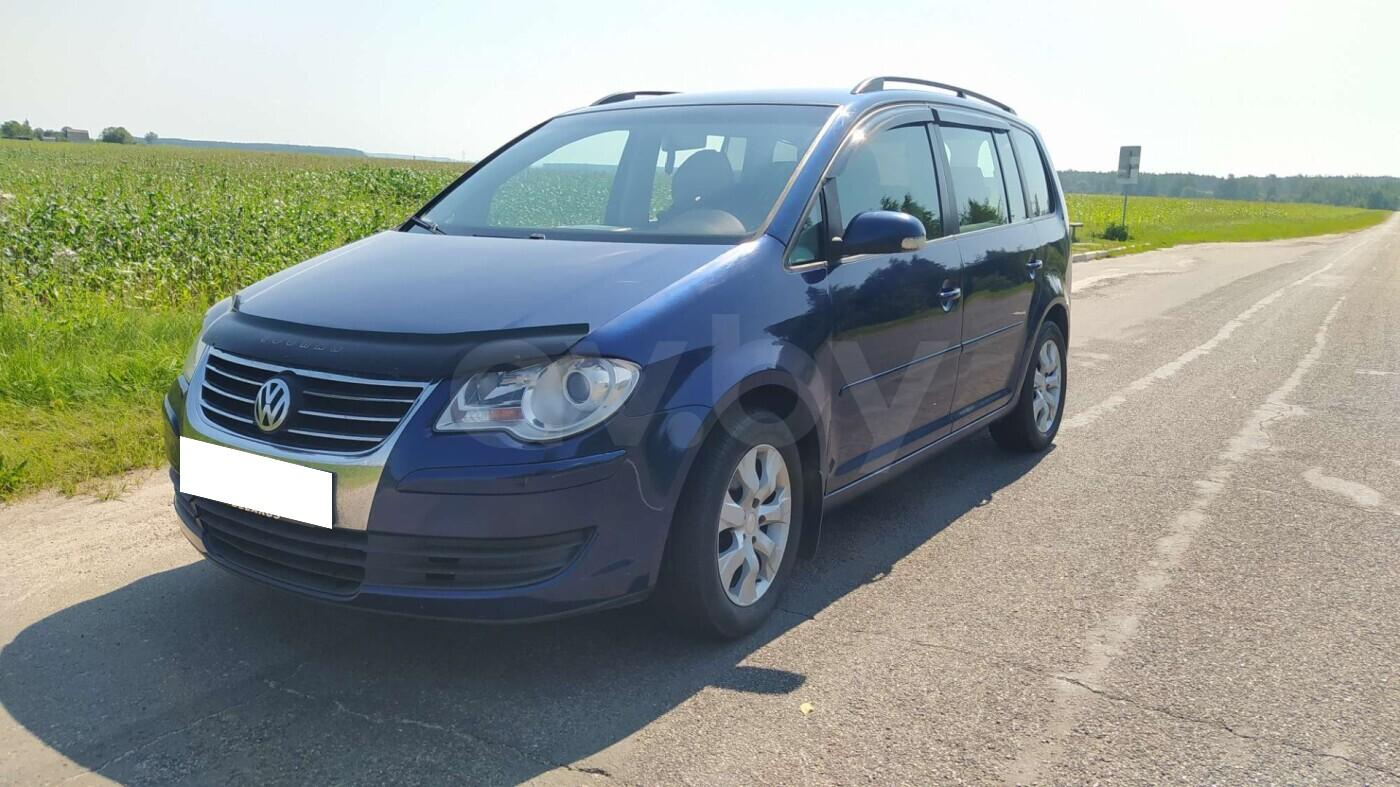Touran_2006-2010: (161, 81, 1078, 644)
